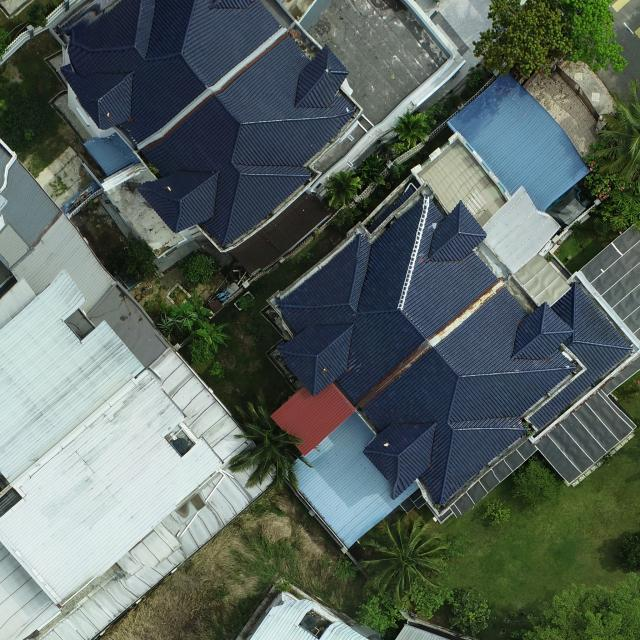tree: (355, 512, 450, 610), (228, 387, 313, 493), (472, 0, 574, 80), (522, 571, 640, 640), (560, 0, 630, 75), (594, 80, 640, 184), (582, 136, 632, 202), (511, 453, 558, 507), (353, 590, 406, 635), (112, 230, 156, 281), (448, 584, 492, 635), (402, 578, 454, 618), (393, 107, 430, 149), (178, 252, 221, 286), (324, 171, 362, 209), (191, 319, 230, 353), (354, 152, 388, 184), (616, 531, 640, 571), (185, 288, 215, 319), (482, 498, 512, 527), (187, 338, 216, 364), (237, 295, 256, 311), (208, 361, 225, 378), (23, 127, 35, 142)
